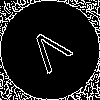V: (25, 25, 80, 82)
